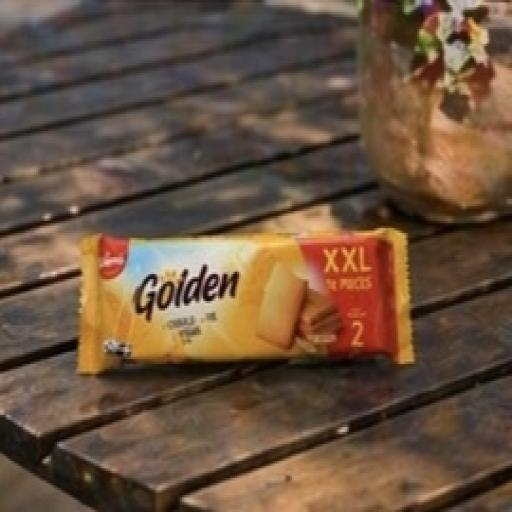golden: (48, 166, 443, 428)
